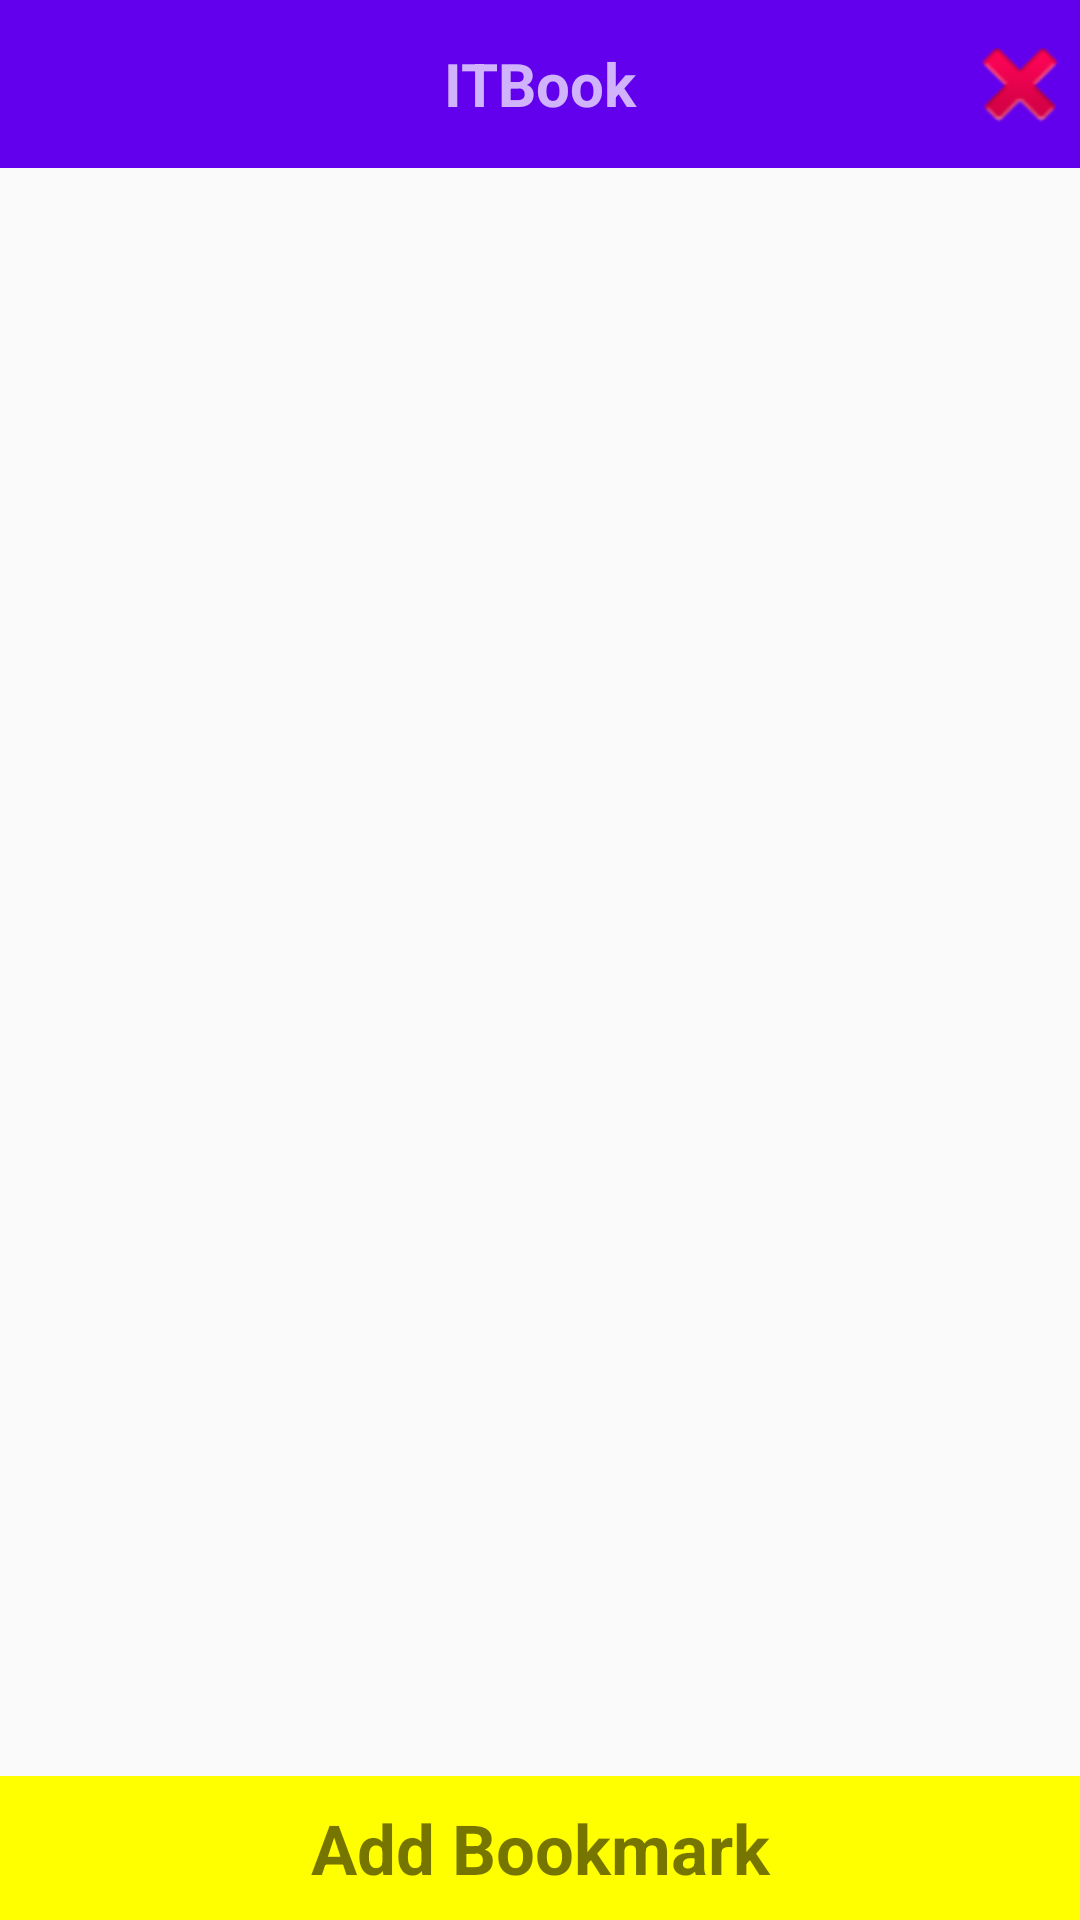

Screen size 1080px x 1920px. Icon name, then its center in pixels as [x,y]:
delete: [1020,85]
